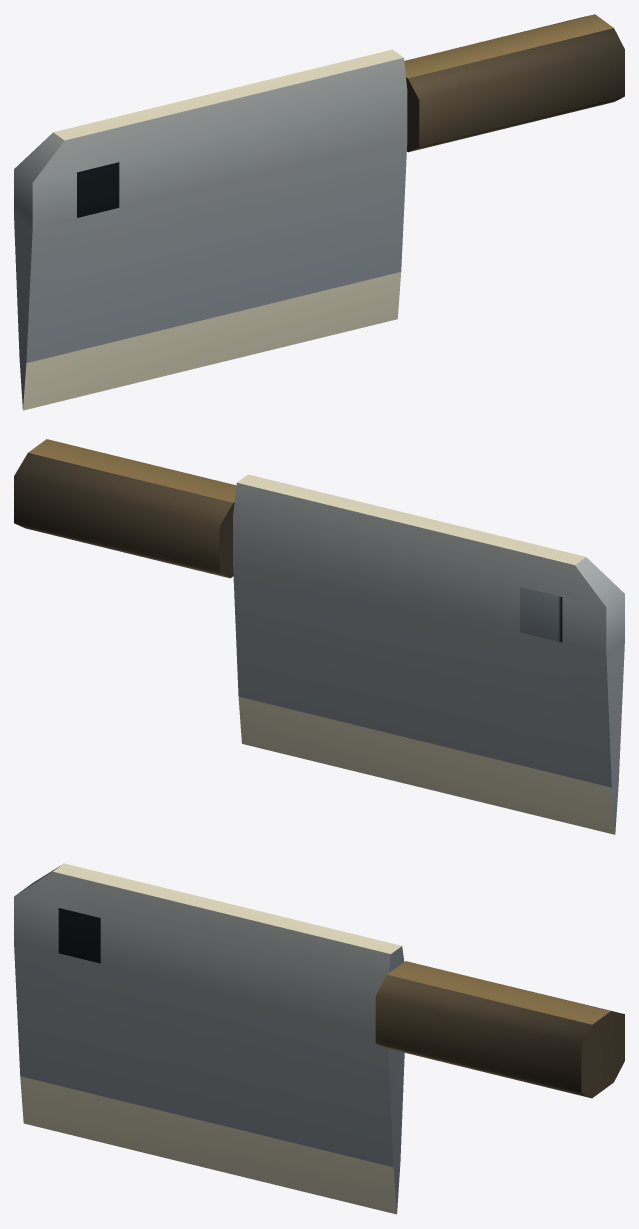
File: cleaver.fbx
3 renders of one model, top to bottom at view 1: azimuth 30°, elevation 25°; view 2: azimuth 150°, elevation 25°; view 3: azimuth 330°, elevation 25°, orthographic.
Parts seen in each view (by area): view 1: cleaver; view 2: cleaver; view 3: cleaver.
Part boxes in pixels (x1,y1,x2,y2): cleaver: [14, 14, 624, 410]; cleaver: [14, 439, 624, 834]; cleaver: [14, 863, 624, 1214].
Bounding box in the file's own units: 54.98 × 24.05 × 7.24.
